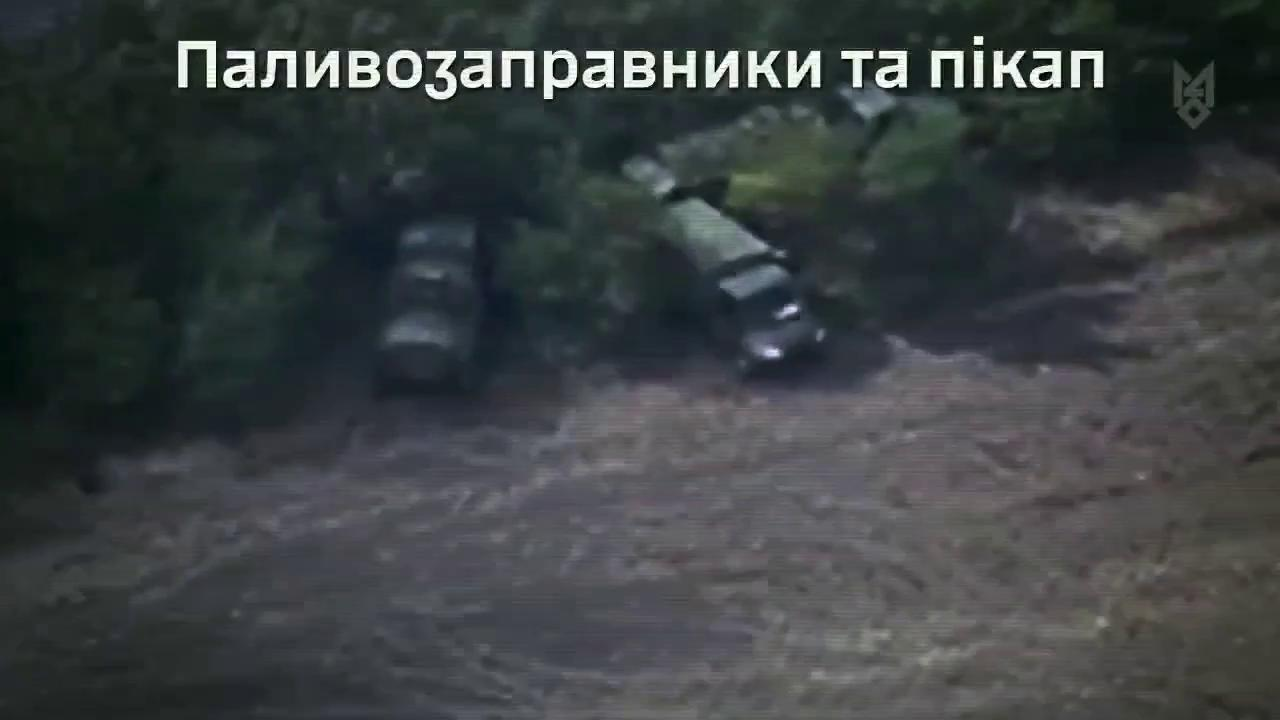tank: (621, 84, 965, 202), (637, 191, 831, 391), (367, 205, 496, 407)
